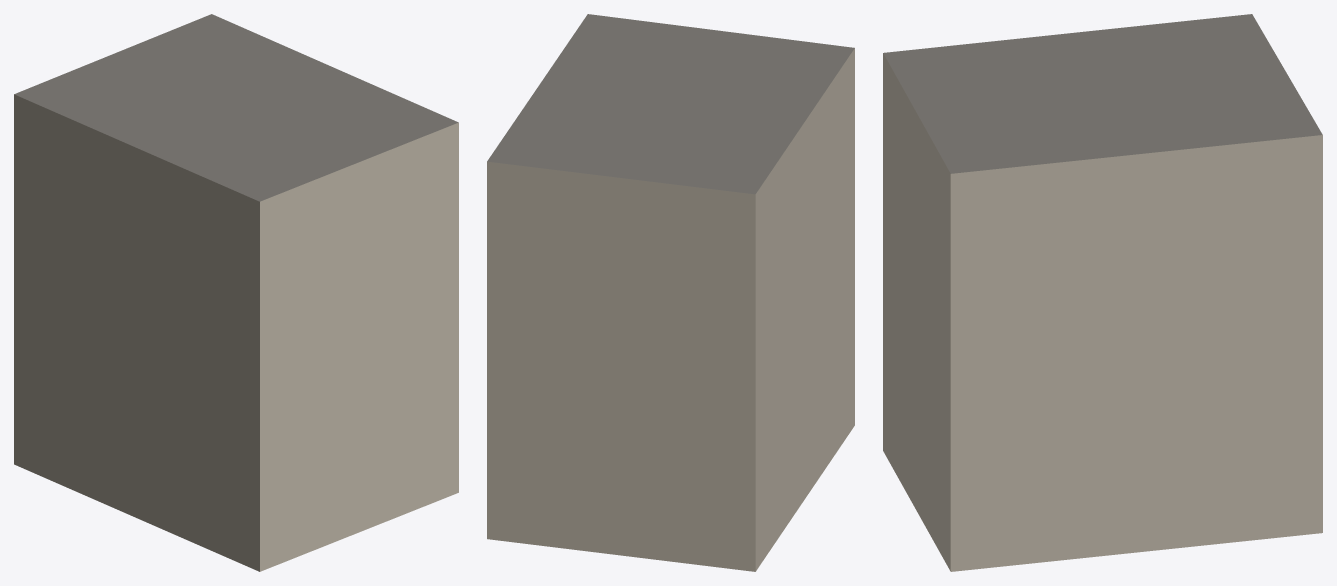
3 renders of one model, left to right at view 1: azimuth 30°, elevation 25°; view 2: azimuth 150°, elevation 25°; view 3: azimuth 270°, elevation 25°, orthographic. The views are drawn at different scales.
Parts seen in each view (by area): view 1: HP-w1197047257; view 2: HP-w1197047257; view 3: HP-w1197047257.
Boxes of the visible parts, left/top/right/bottom form: HP-w1197047257: left=14, top=14, right=458, bottom=571; HP-w1197047257: left=487, top=14, right=854, bottom=571; HP-w1197047257: left=883, top=14, right=1322, bottom=571.
Size of the model in its own units: 15.5 by 18 by 18.02.
